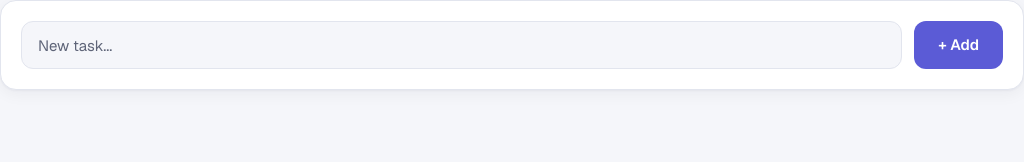
Test: AddTodoForm › shows a fallback message when the request crashes
Type "Buy milk" into the field with placeholder "New task...". click: (462, 45)
box: x1=21 y1=21 x2=902 y2=69
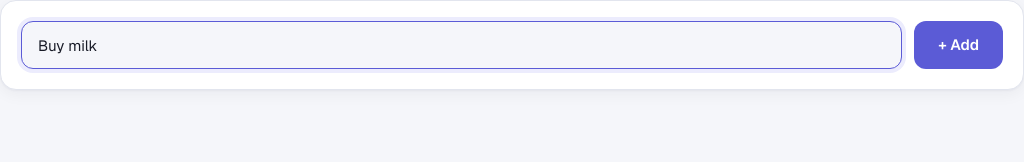
Click the button "+ Add". click: (959, 45)
box: x1=914 y1=21 x2=1003 y2=69
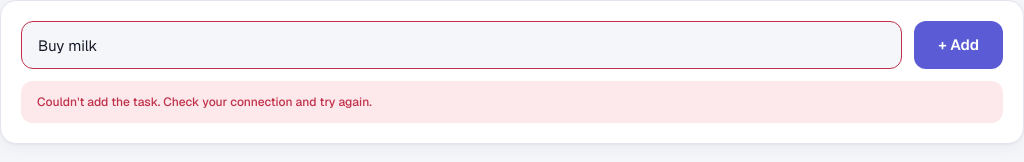
Check: the message shows "Couldn't add the task", box x1=37 y1=94 x2=372 y2=110
